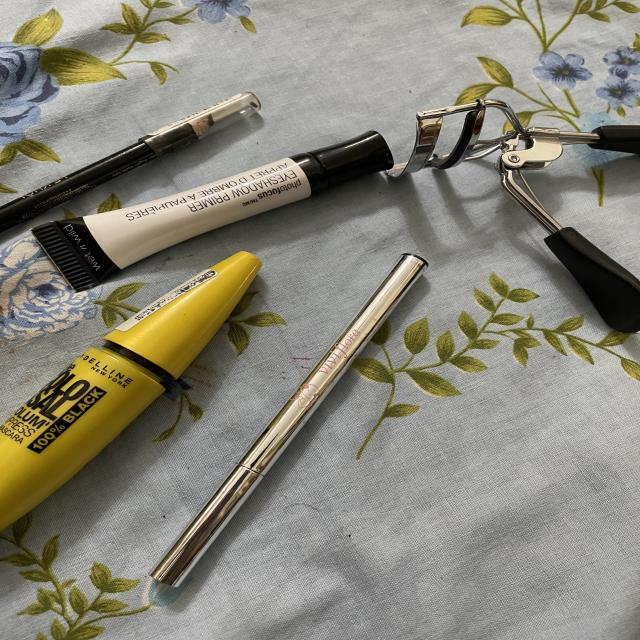eye liner: (132, 236, 428, 600), (0, 81, 266, 175)
eyelash curler: (388, 83, 640, 370)
mascara: (0, 237, 272, 538)
primer: (92, 116, 401, 260)
